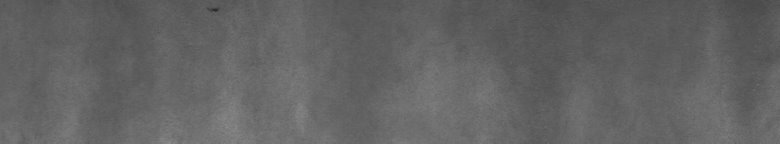fi: (207, 4, 221, 16)
